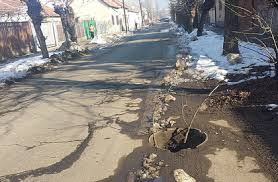Manhole-Open: (146, 121, 212, 152)
